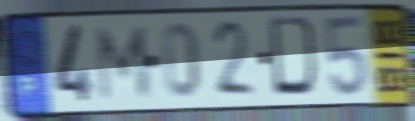0: (159, 19, 204, 104)
2: (212, 17, 257, 103)
4: (52, 21, 99, 109)
5: (321, 12, 370, 100)
D: (266, 13, 325, 102)
M: (95, 24, 153, 104)
